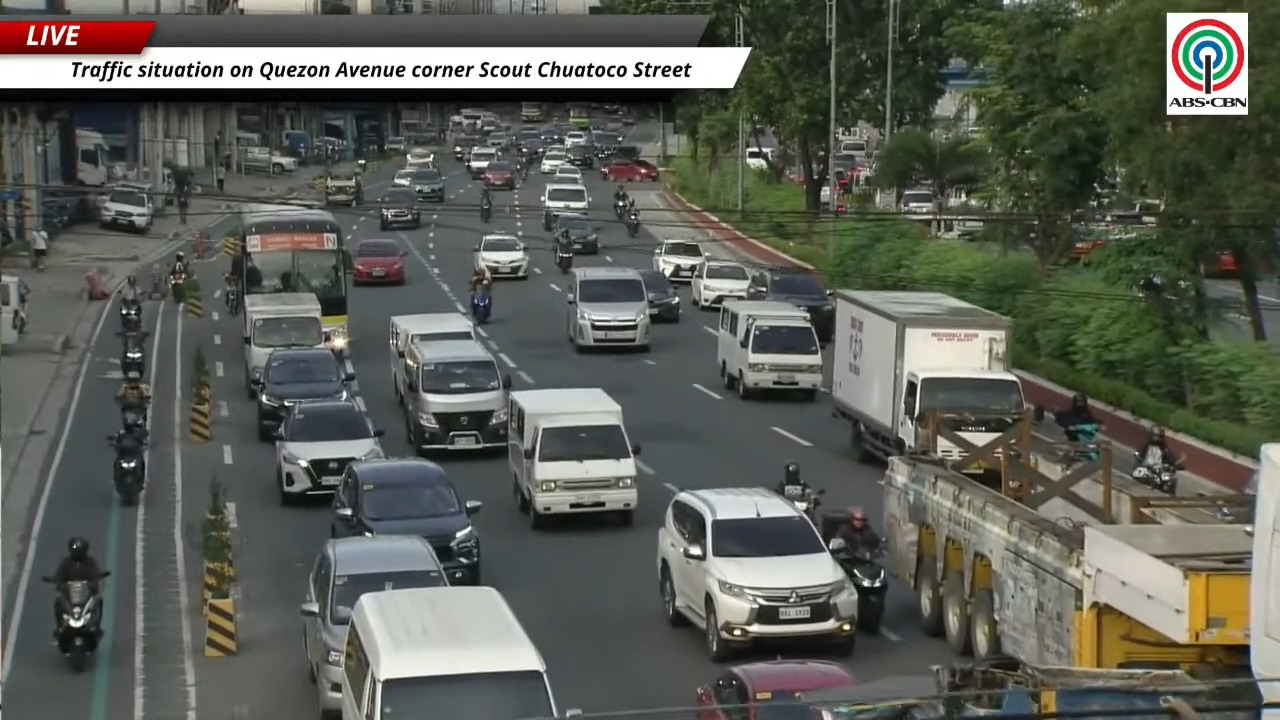bus: (240, 204, 350, 356), (1249, 443, 1279, 719), (568, 104, 591, 129)
car: (656, 488, 857, 661), (300, 535, 448, 715), (330, 458, 480, 584), (275, 400, 383, 504), (251, 347, 354, 441), (695, 659, 856, 718), (566, 266, 651, 351), (746, 268, 834, 343), (690, 259, 749, 308), (99, 184, 154, 233), (352, 238, 406, 285), (474, 233, 529, 279), (652, 239, 709, 282), (639, 269, 680, 322), (379, 186, 421, 231), (555, 213, 599, 254), (601, 158, 657, 181), (324, 173, 363, 206), (411, 168, 445, 201), (466, 147, 498, 179), (898, 188, 937, 213), (482, 161, 516, 189), (592, 132, 621, 159), (452, 134, 479, 161), (565, 145, 595, 169), (539, 150, 566, 174), (406, 146, 435, 168), (519, 138, 544, 161), (553, 164, 581, 183), (484, 132, 511, 151), (564, 130, 589, 147), (392, 168, 415, 186), (539, 128, 562, 145), (613, 145, 640, 159), (385, 136, 408, 152)
motorcycle: (818, 513, 887, 633), (828, 538, 887, 633), (56, 580, 102, 672), (108, 435, 145, 506), (1064, 422, 1101, 464), (117, 329, 149, 376), (1131, 463, 1178, 495), (783, 485, 824, 520), (121, 406, 148, 442), (470, 284, 491, 323), (121, 403, 148, 432), (120, 344, 144, 376), (119, 300, 141, 332), (169, 269, 188, 304), (224, 283, 240, 316), (556, 247, 572, 273), (626, 209, 639, 237), (614, 198, 628, 219), (480, 203, 491, 221), (357, 158, 366, 173)
truck: (882, 452, 1253, 679), (831, 289, 1024, 461), (794, 658, 1256, 719), (243, 292, 325, 397), (1249, 443, 1279, 680), (76, 128, 110, 186), (240, 146, 298, 174), (520, 102, 543, 122)
